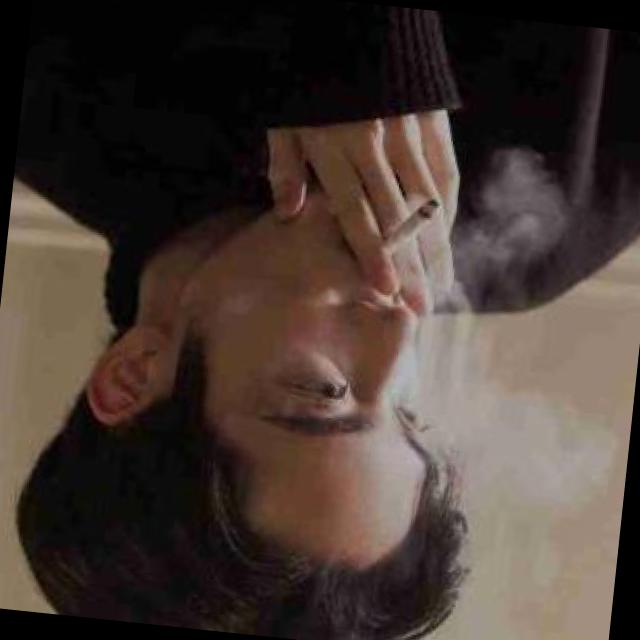cigarette: (378, 191, 444, 258)
